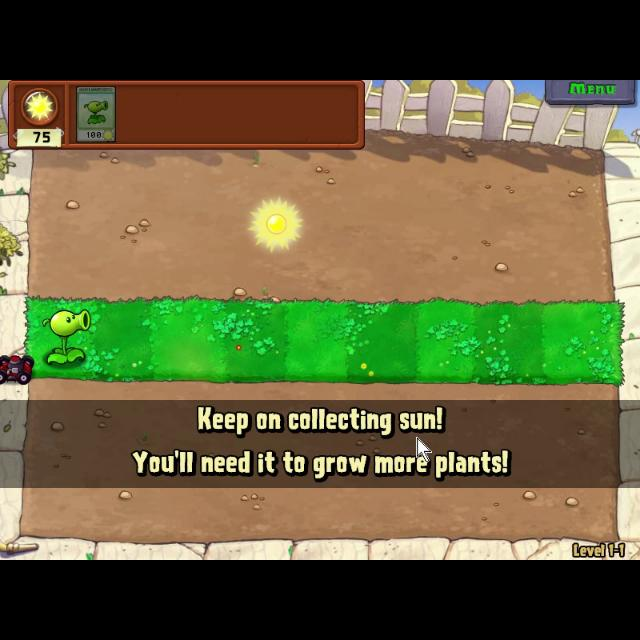Garden: (20, 292, 626, 391)
Menu Button: (544, 80, 638, 106)
Mower: (0, 351, 38, 385)
Peashooter: (74, 82, 118, 144)
Peashooter Seed: (36, 301, 96, 369)
Seed Panel: (5, 80, 369, 154)
Sun: (248, 196, 304, 252)
